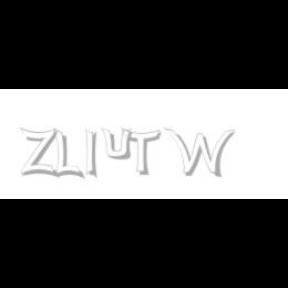L: (54, 128, 82, 180)
T: (121, 128, 161, 176)
W: (163, 128, 235, 178)
Z: (20, 128, 57, 178)
l: (85, 128, 101, 180)
u: (101, 128, 136, 160)
